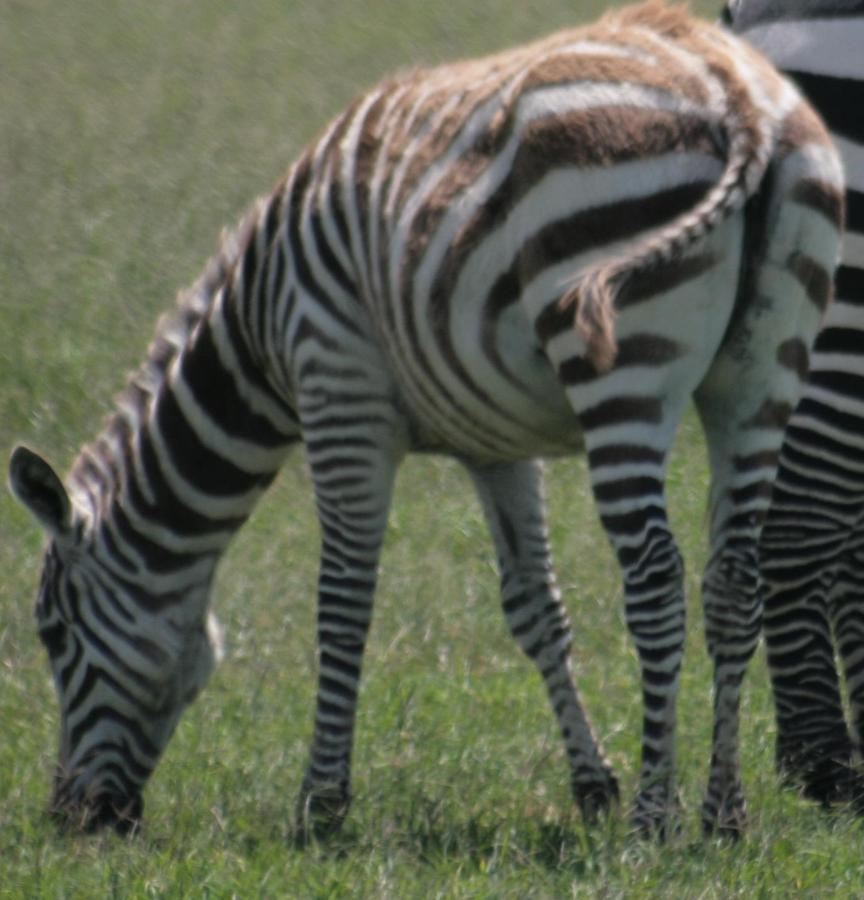zebra_plains: (222, 97, 730, 504)
